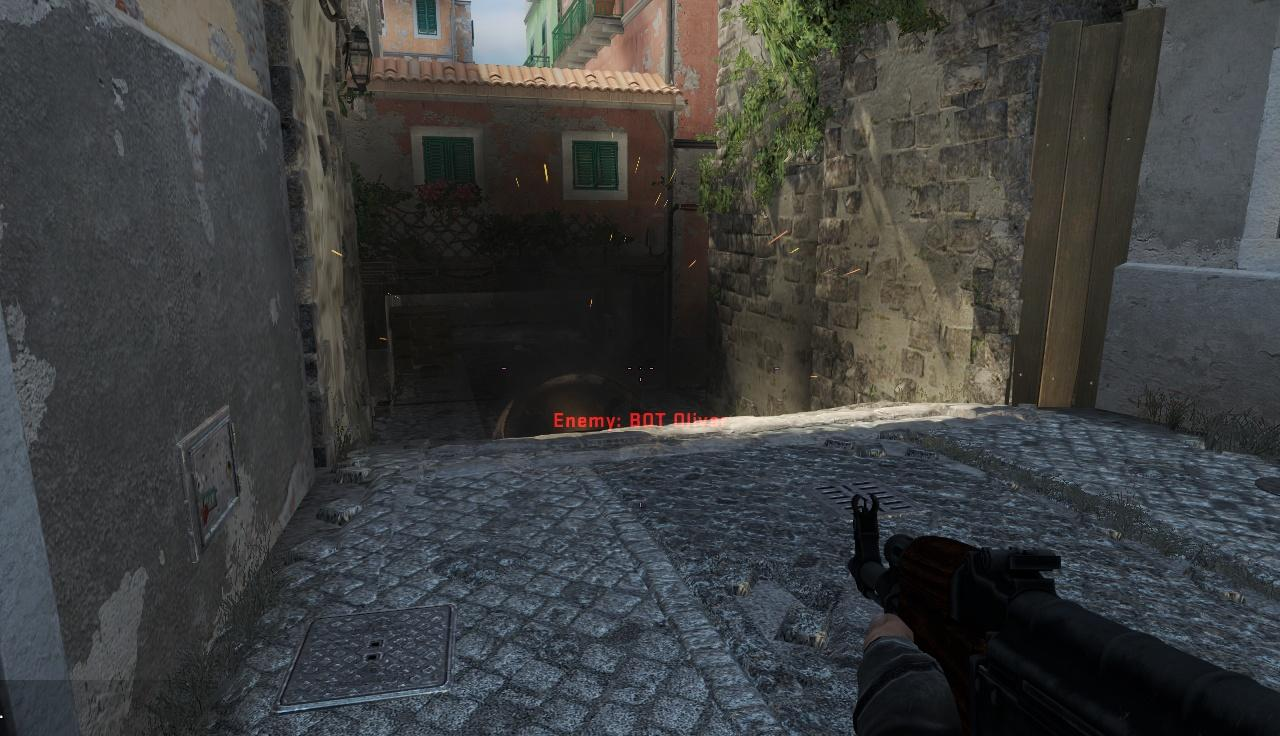rifle: (852, 501, 1280, 736)
